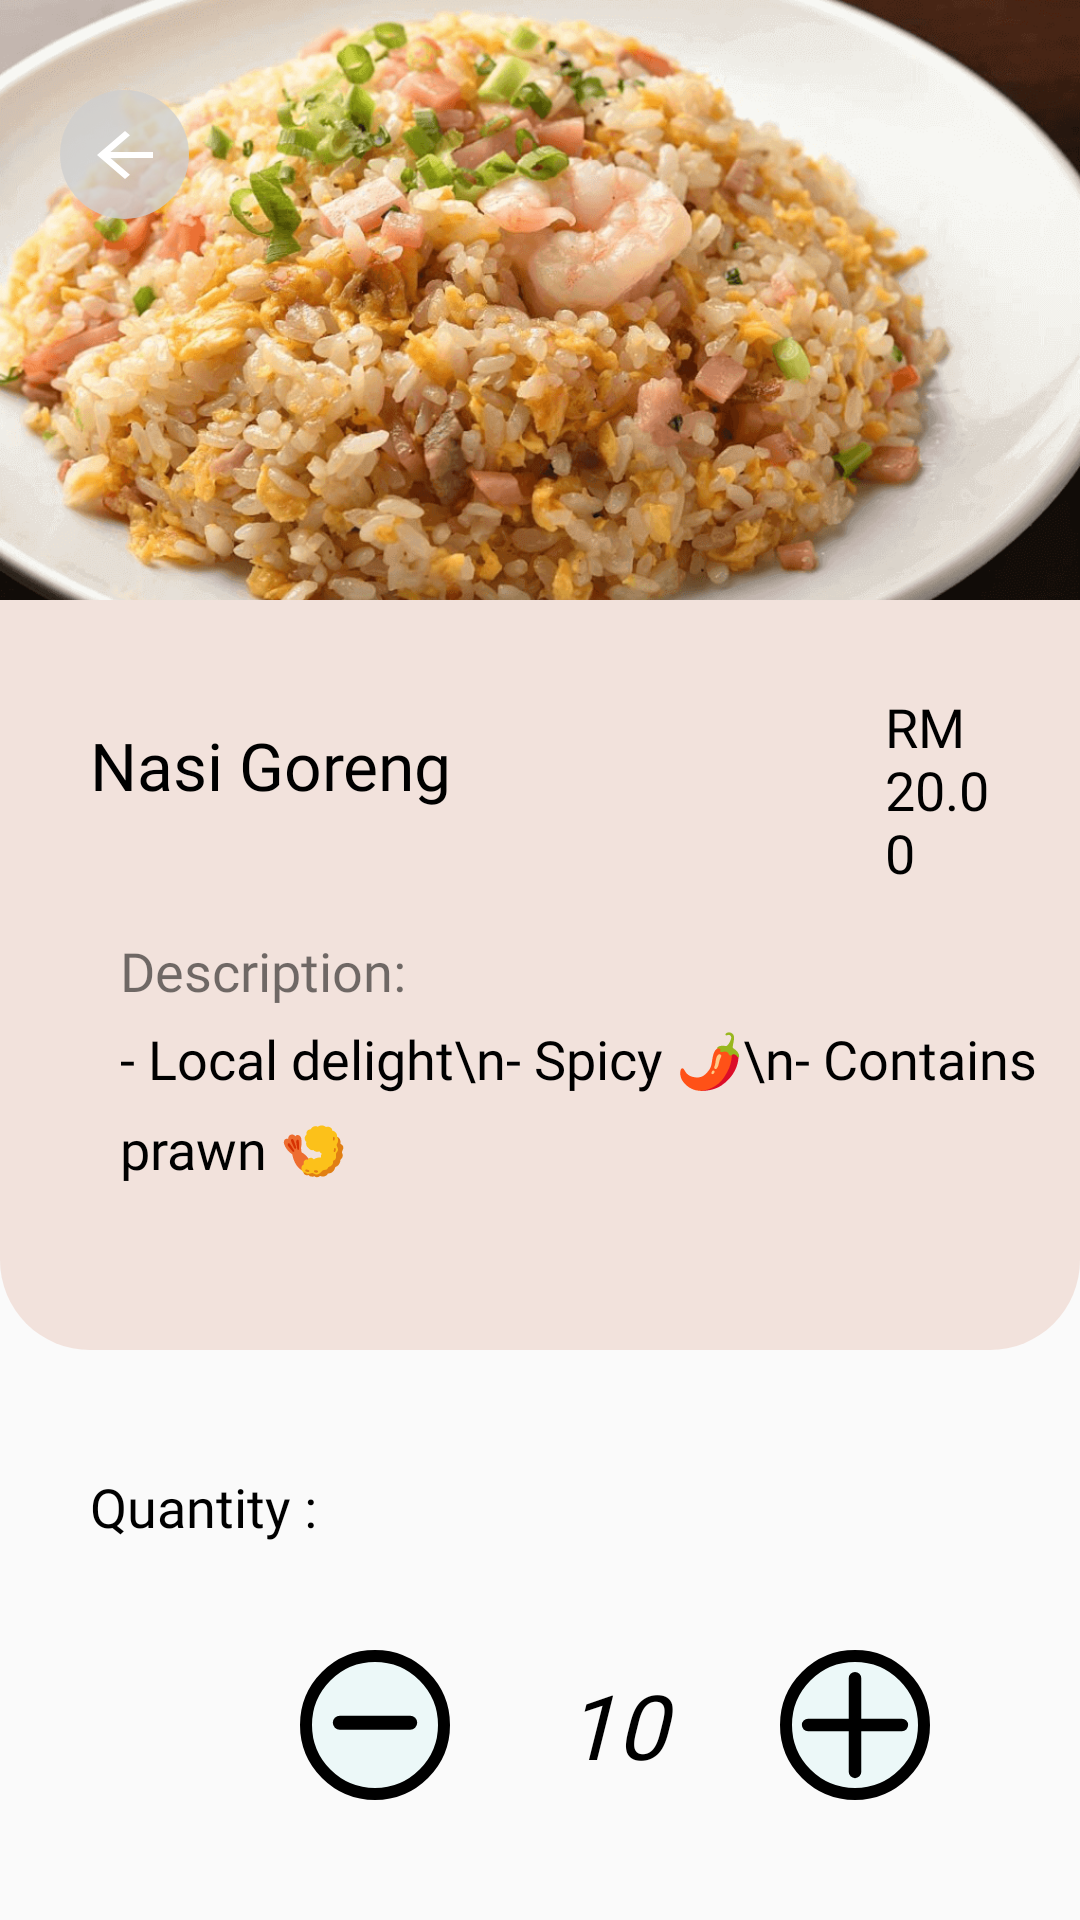

Where to tap for icons on this 1080px×1920px app screen, as [x,y]:
back: [124,154]
decrement: [375,1725]
increment: [855,1725]
